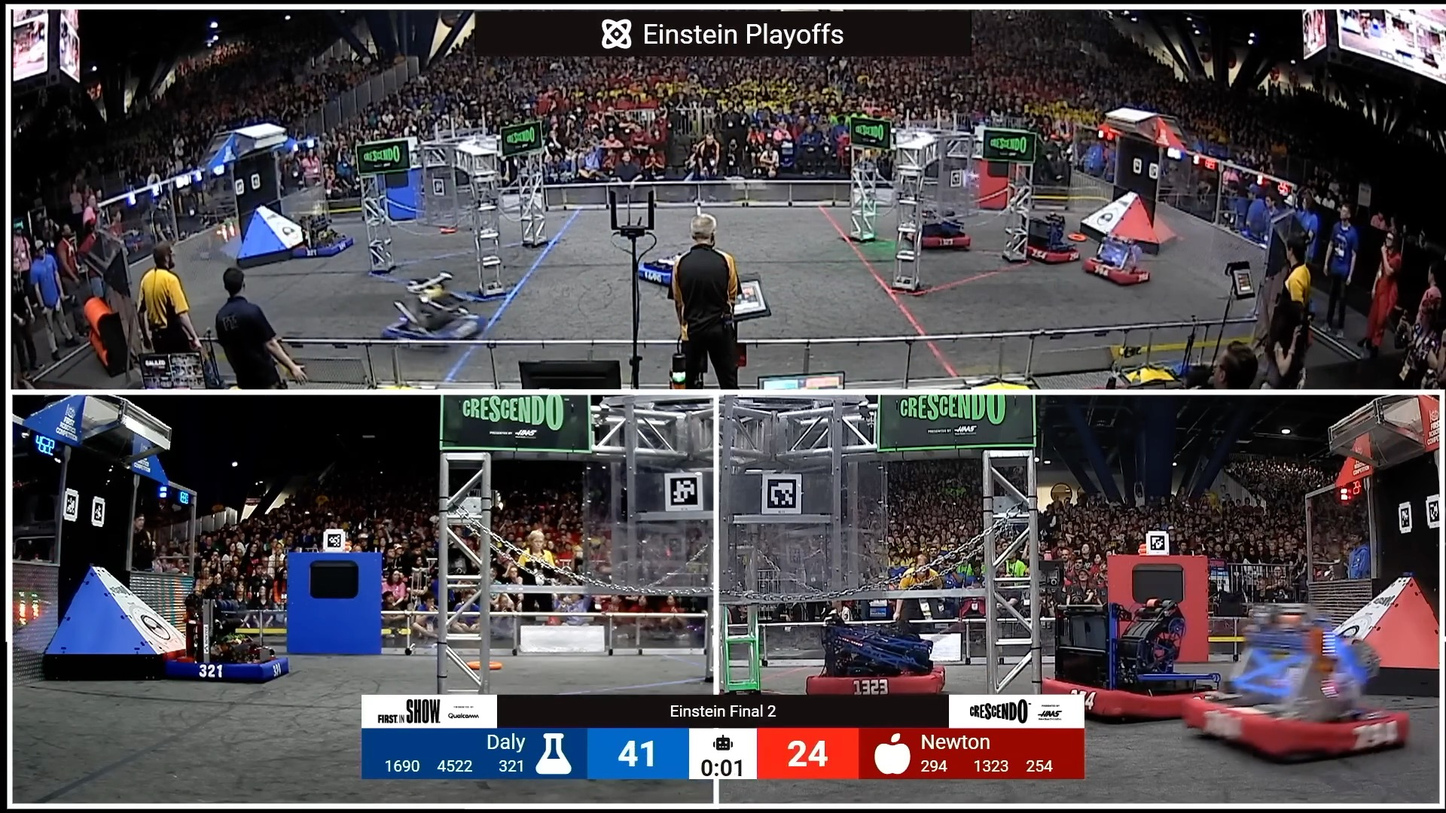bumpers: (1187, 687, 1418, 773), (1033, 668, 1226, 730), (376, 305, 509, 358), (153, 651, 296, 690), (797, 662, 956, 697), (642, 247, 721, 295), (1070, 251, 1164, 289), (893, 221, 975, 254), (288, 232, 361, 260), (1011, 241, 1080, 266)
